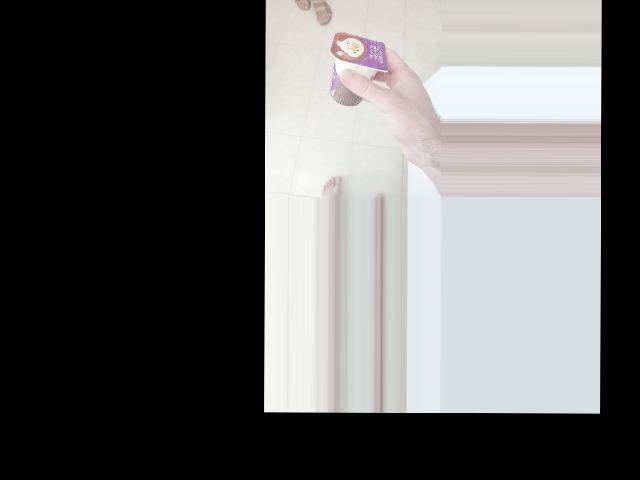milky: (332, 30, 382, 111)
